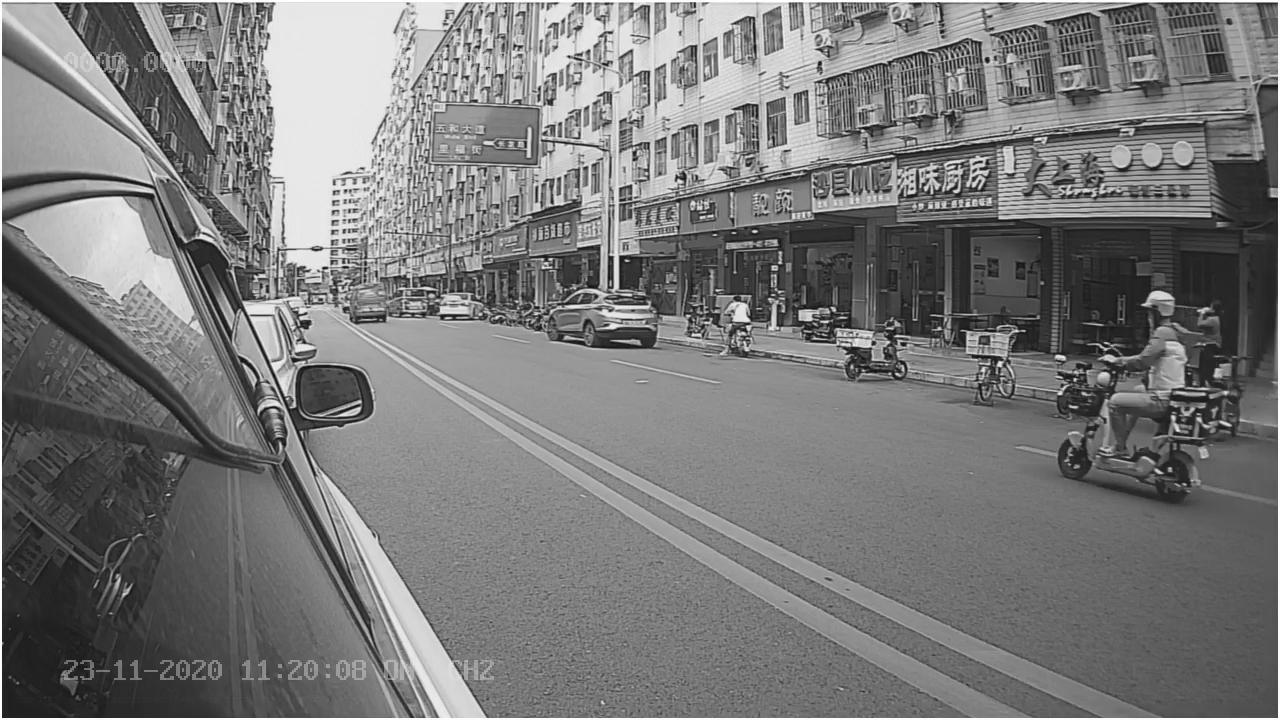person: (1123, 289, 1196, 386)
